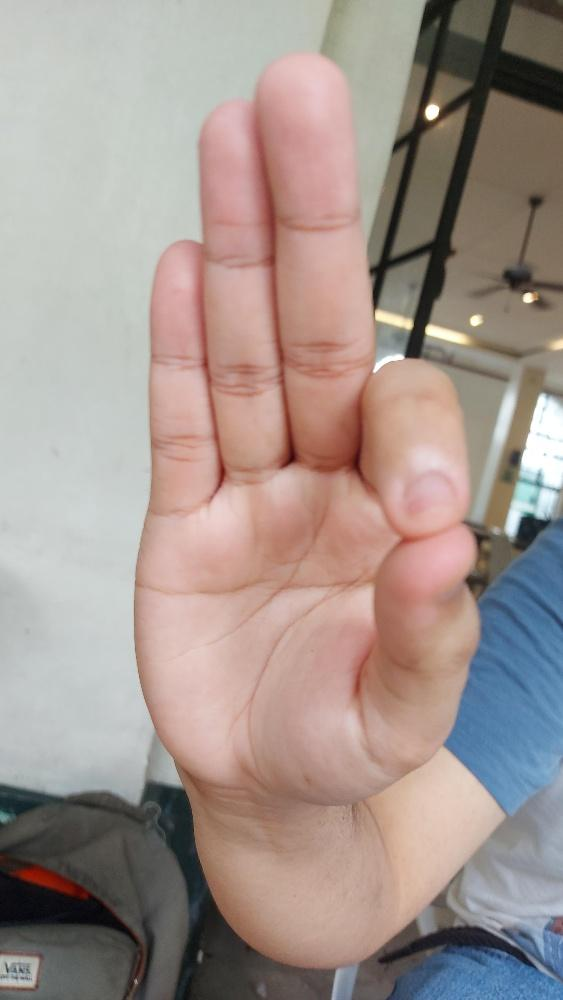f: (132, 50, 479, 806)
